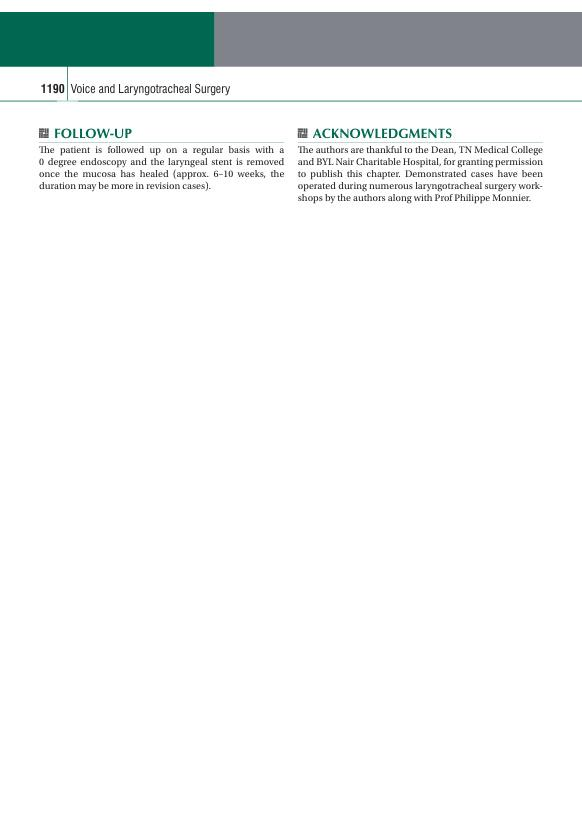header: (69, 82, 231, 97)
section-heading: (311, 127, 452, 139), (53, 126, 133, 140)
text: (296, 143, 544, 205), (37, 143, 285, 193)
